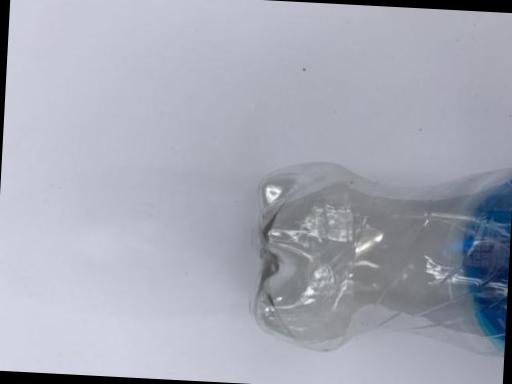plastic: (206, 118, 512, 384)
